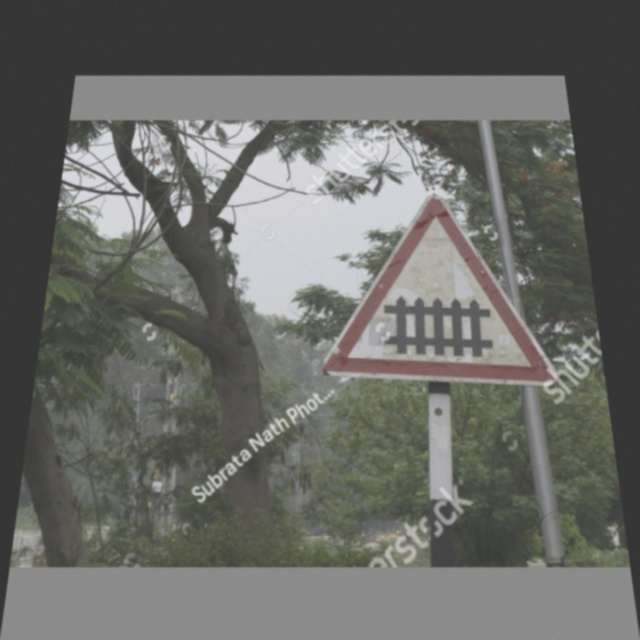Guarded_Level_Crossing: (326, 199, 560, 382)
